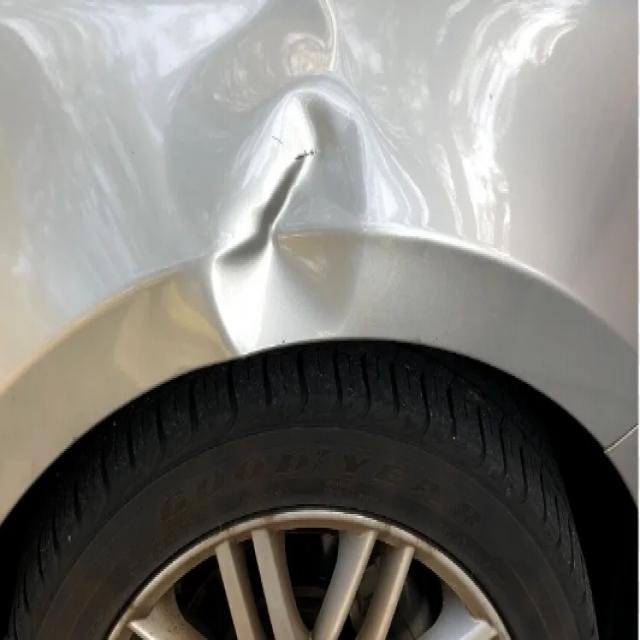dents: (204, 92, 384, 352)
